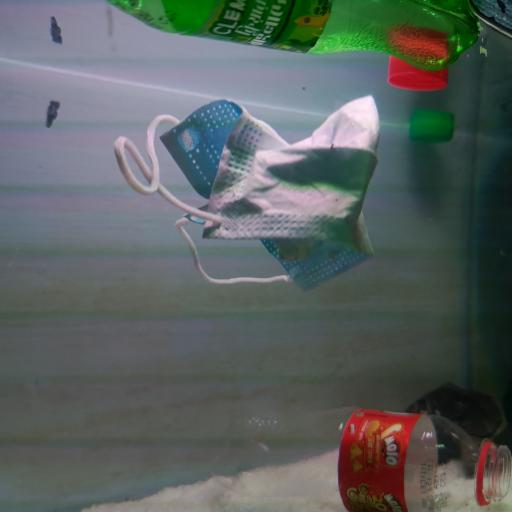bottle_cap: (387, 28, 453, 94), (411, 105, 458, 146)
mask: (112, 96, 382, 294)
plastic_bottle: (214, 409, 512, 512), (109, 0, 482, 70)
